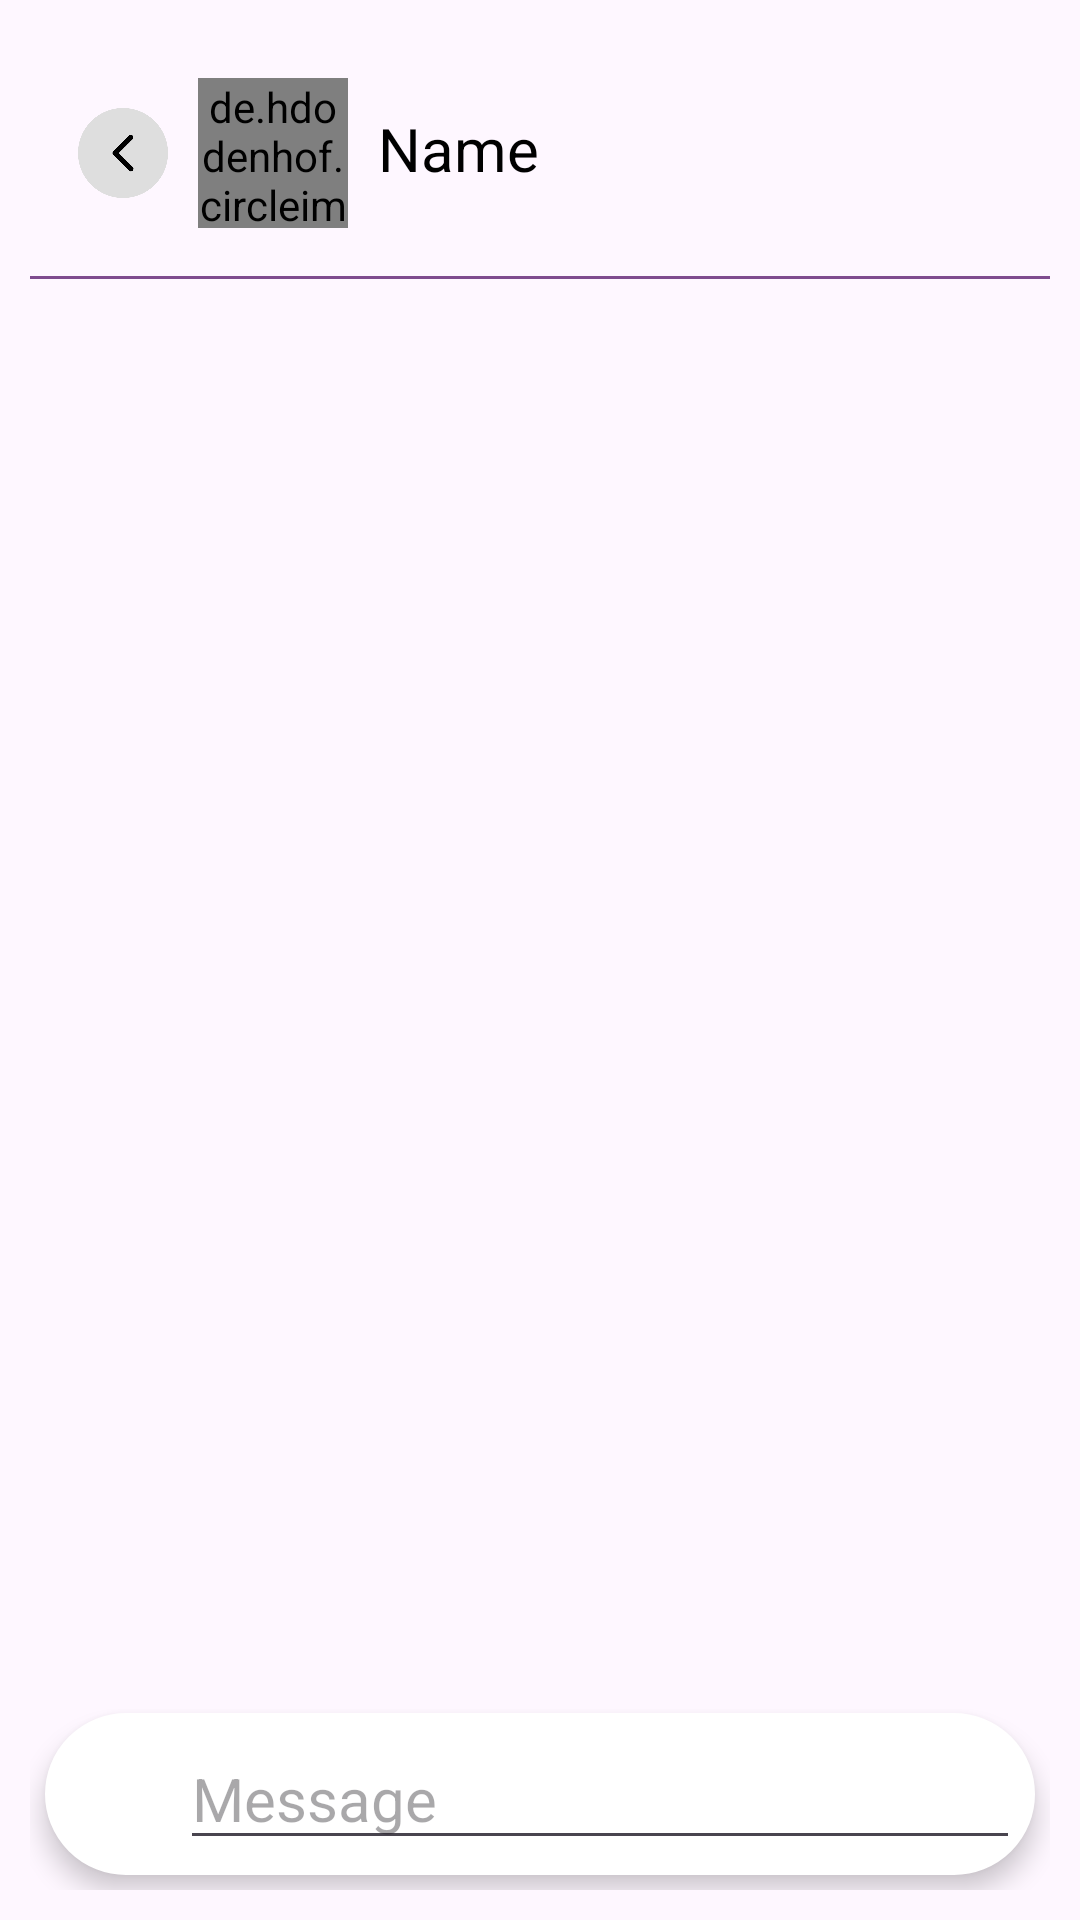

Screen size 1080w x 1920h. Icon name, then its center in pixels as (x,y):
lefttt: (123,153)
